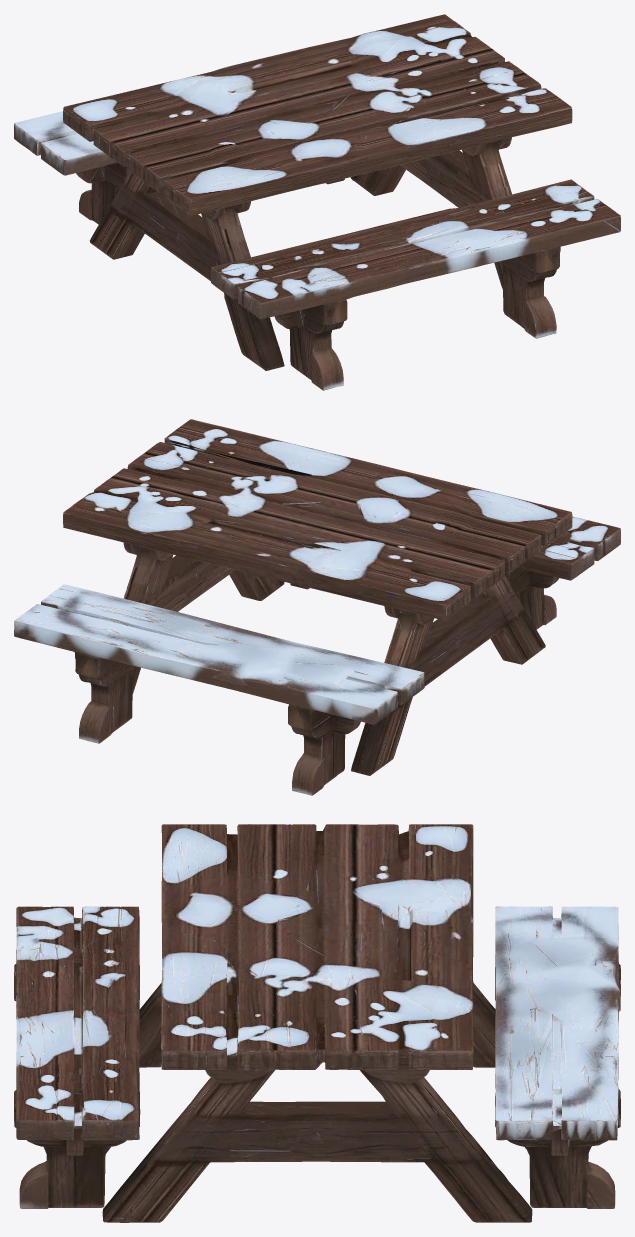
The model's file is picnic_table.glb.
3 views of the same model, one above another, from view 1: azimuth 30°, elevation 25°; view 2: azimuth 150°, elevation 25°; view 3: azimuth 270°, elevation 25° (orthographic). The views are drawn at different scales.
Size of the model in its own units: 1.69 by 0.7094 by 1.9.
Materials: 1 (1 with a texture image).
